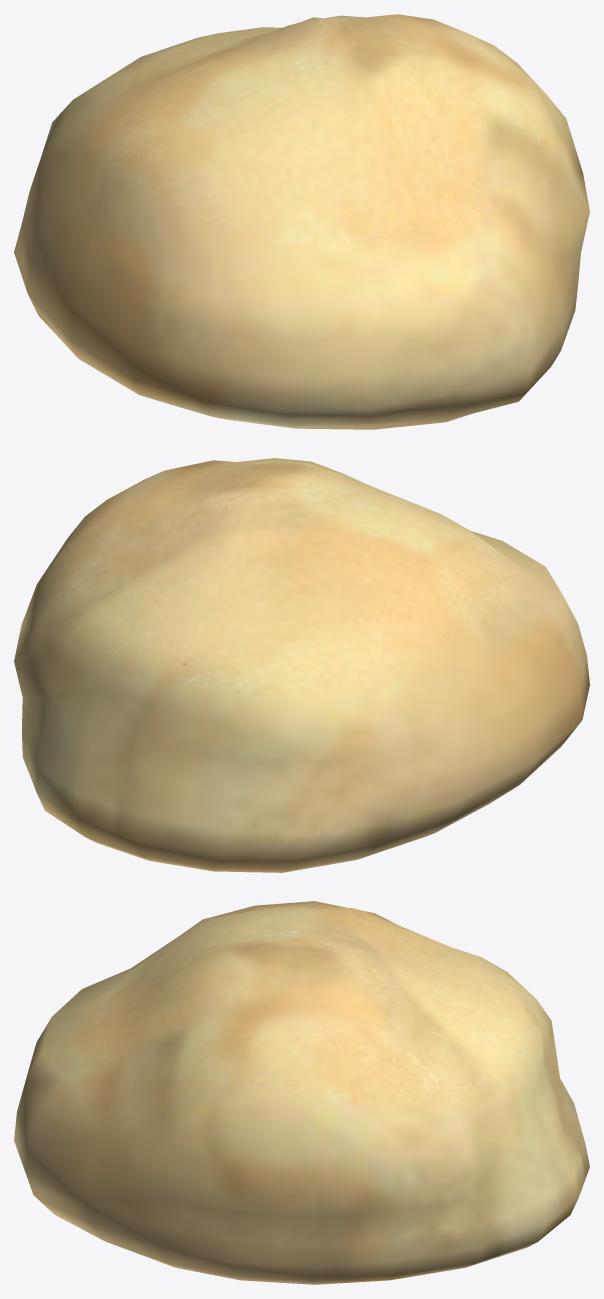
File: pickup_dough.fbx
3 renders of one model, top to bottom at view 1: azimuth 30°, elevation 25°; view 2: azimuth 150°, elevation 25°; view 3: azimuth 270°, elevation 25°, orthographic. The views are drawn at different scales.
Visible parts, largest first — view 1: pSphere1; view 2: pSphere1; view 3: pSphere1.
Boxes of the visible parts, x1,y1,x2,y2 form: pSphere1: [14, 14, 589, 429]; pSphere1: [14, 458, 589, 872]; pSphere1: [14, 901, 589, 1284].
Bounding box in the file's own units: 34.38 × 20.68 × 38.02.
1 material, 1 textured.
